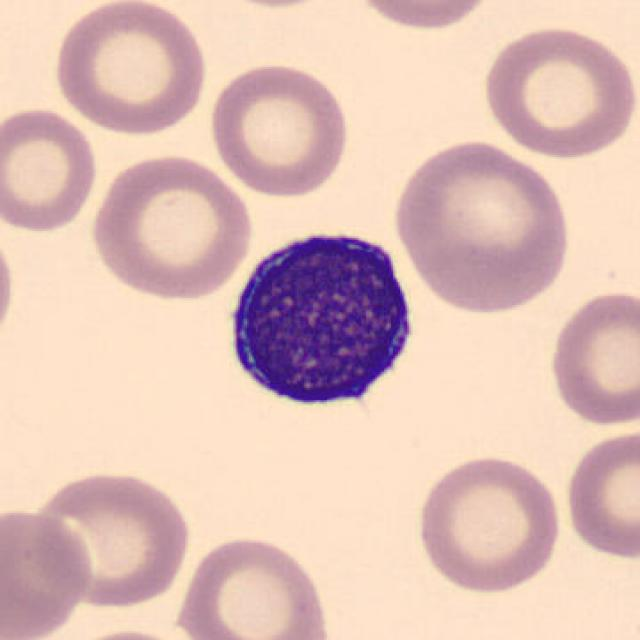Lymphocyte: (213, 213, 427, 423)
RBC: (388, 136, 576, 317), (85, 150, 258, 303), (21, 465, 194, 612), (48, 0, 212, 138), (411, 450, 565, 596), (476, 20, 636, 160), (204, 58, 354, 201), (172, 530, 335, 640), (544, 286, 638, 430), (0, 102, 101, 236), (0, 504, 96, 640), (560, 427, 638, 562), (348, 0, 501, 33), (0, 213, 20, 356), (53, 624, 201, 640), (195, 0, 348, 12)
